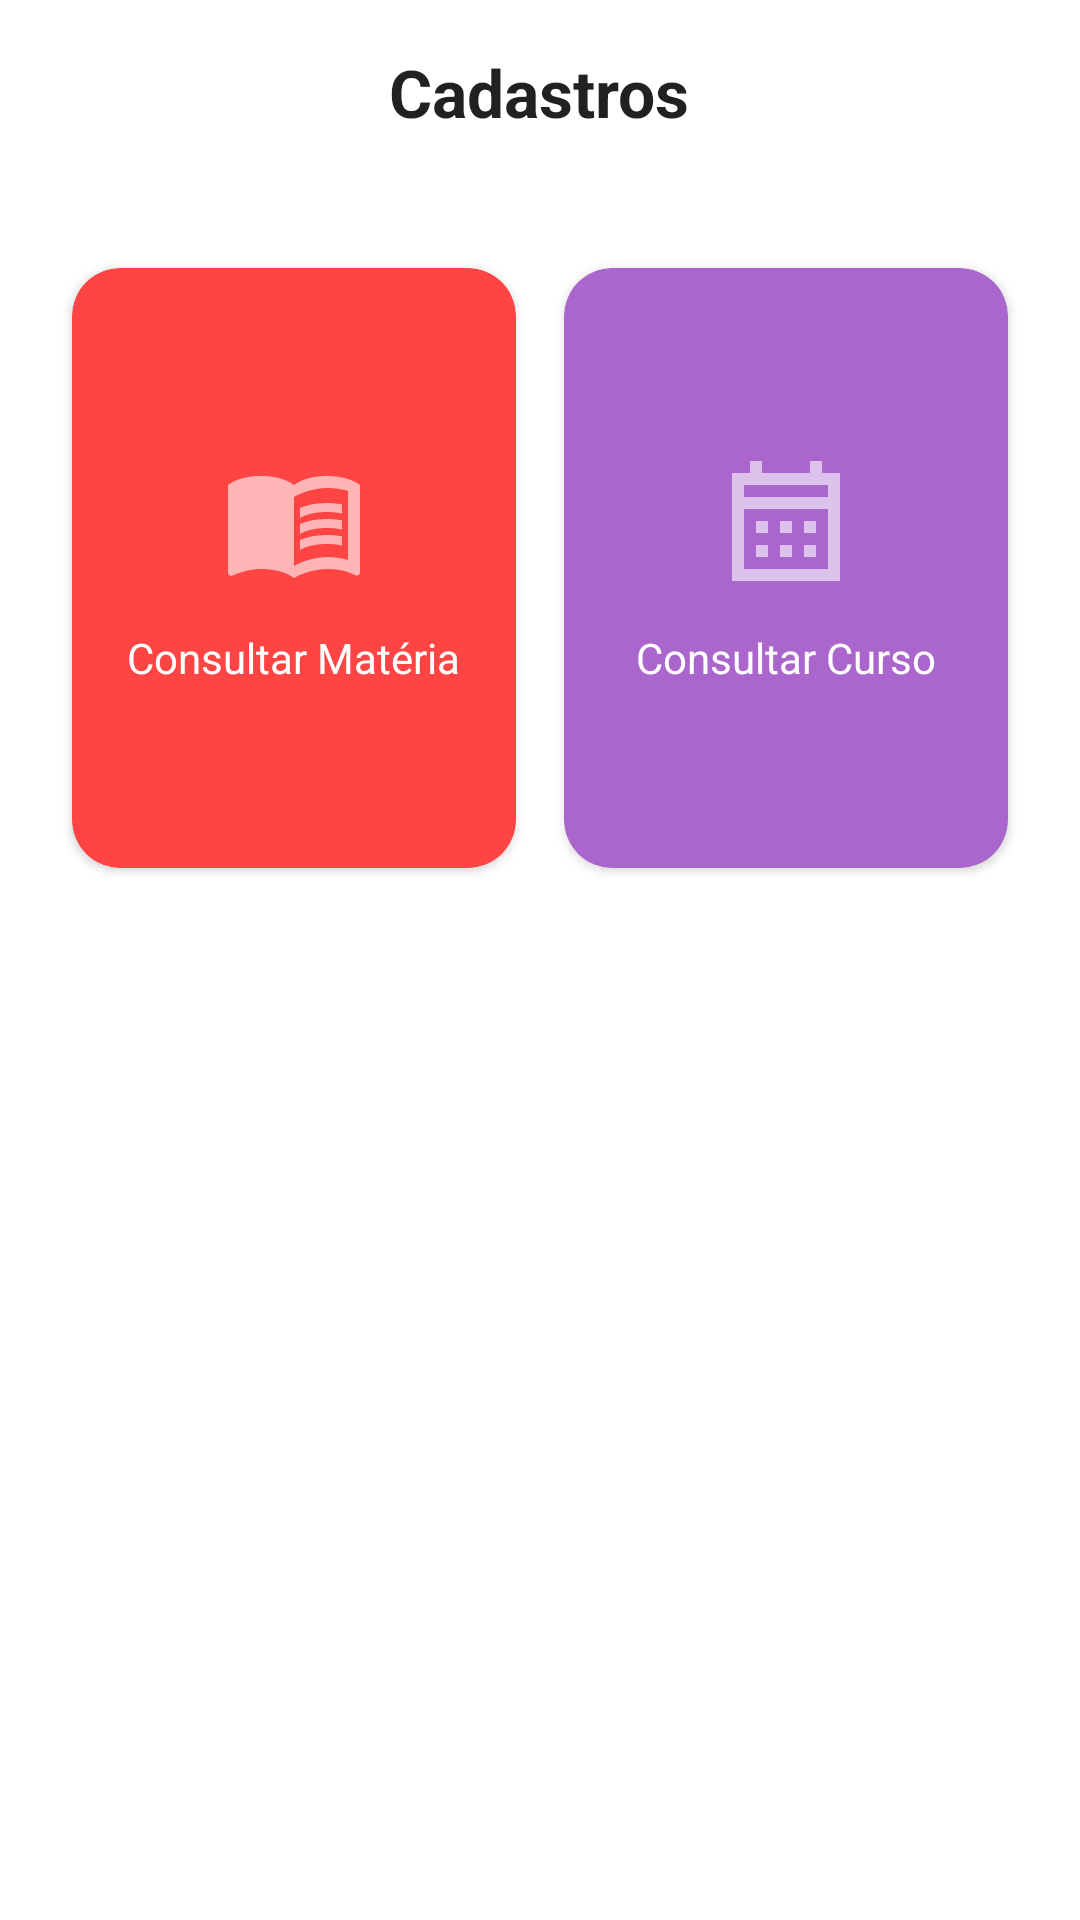

Screen size 1080*1920. Icon name, then its box in pixels as (x1, y1, x2, y2):
book: (228, 476, 360, 578)
calendar: (732, 461, 840, 581)
